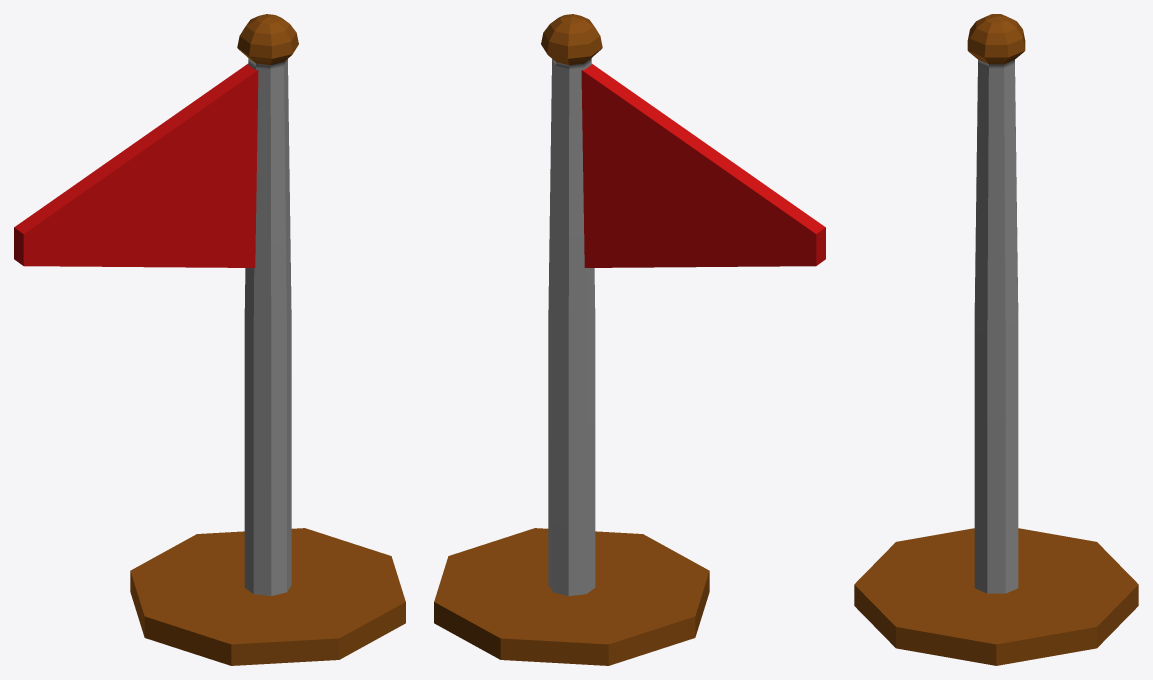
File: flag.fbx
The picture shows the model from 3 angles, left to right: view 1: azimuth 30°, elevation 25°; view 2: azimuth 150°, elevation 25°; view 3: azimuth 270°, elevation 25°; orthographic projection.
Visible parts, largest first — view 1: pCylinder2; view 2: pCylinder2; view 3: pCylinder2.
Part boxes in pixels (x1,y1,x2,y2): pCylinder2: [14, 14, 405, 665]; pCylinder2: [434, 14, 825, 665]; pCylinder2: [854, 14, 1138, 665].
Size of the model in its own units: 4.53 by 6.86 by 3.
Materials: 1 (1 with a texture image).
